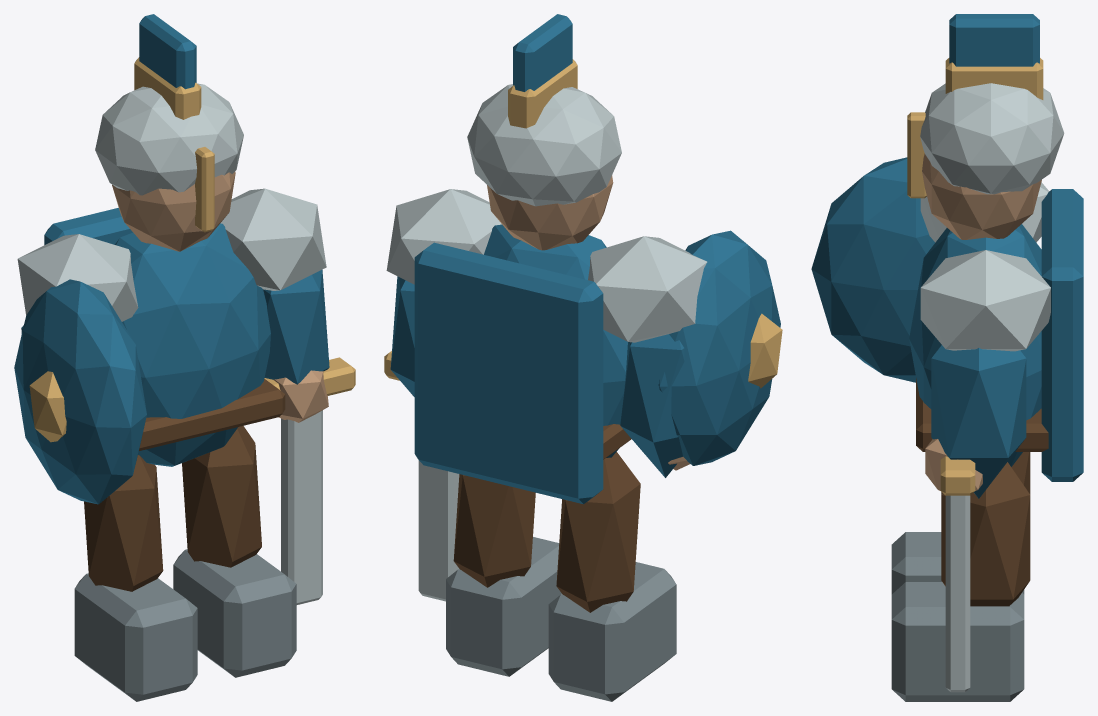
File: hero.glb
3 views of the same model, side by side, from view 1: azimuth 30°, elevation 25°; view 2: azimuth 150°, elevation 25°; view 3: azimuth 270°, elevation 25° (orthographic). The views are drawn at different scales.
Parts seen in each view (by area): view 1: Torso, Shield, BootL, Helmet, BootR, LegR, Pauldron.001, LegL, Blade, Pauldron, ArmR, Head (+8 smaller); view 2: Cape, Shield, Helmet, BootL, BootR, LegL, Pauldron, LegR, ArmL, Pauldron.001, Torso, Blade (+6 smaller); view 3: Shield, Helmet, BootR, Cape, Pauldron.001, ArmR, LegR, Torso, Blade, Head, Blue helmet crest, BootL (+7 smaller).
Boxes of the visible parts, box(x1,y1,x2,y2) form: Torso: box(115, 223, 270, 466); Shield: box(14, 279, 146, 504); BootL: box(74, 573, 197, 701); Helmet: box(95, 83, 243, 195); BootR: box(173, 549, 296, 677); LegR: box(182, 426, 261, 567); Pauldron.001: box(220, 188, 326, 290); LegL: box(84, 455, 163, 591); Blade: box(281, 410, 322, 604); Pauldron: box(17, 234, 138, 321); ArmR: box(263, 269, 329, 384); Head: box(112, 171, 235, 251); Cape: box(414, 242, 603, 504); Shield: box(658, 230, 780, 465); Helmet: box(467, 84, 621, 206); BootL: box(548, 562, 676, 701); BootR: box(446, 537, 561, 676); LegL: box(556, 451, 640, 612); Pauldron: box(588, 236, 707, 342); LegR: box(453, 474, 535, 587); ArmL: box(620, 334, 684, 477); Pauldron.001: box(386, 189, 501, 284); Torso: box(484, 224, 627, 457); Blade: box(418, 460, 459, 601); Shield: box(811, 157, 934, 382); Helmet: box(920, 83, 1064, 194); BootR: box(891, 582, 1024, 701); Cape: box(1041, 189, 1083, 481); Pauldron.001: box(920, 250, 1050, 351); ArmR: box(931, 345, 1026, 498); LegR: box(941, 462, 1030, 606); Torso: box(909, 224, 1041, 466); Blade: box(945, 495, 970, 692); Head: box(922, 153, 1041, 239); Blue helmet crest: box(949, 14, 1039, 66); BootL: box(891, 532, 1024, 594).
Size of the model in its own units: 1.18 by 2.05 by 0.78.
